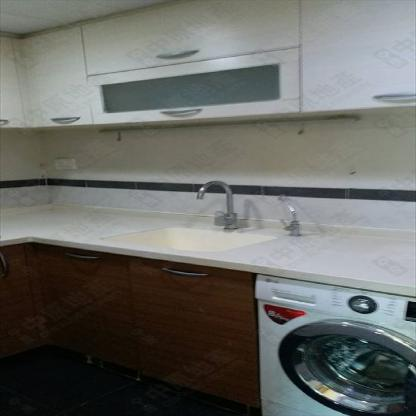Cupboard: (0, 0, 415, 126), (0, 241, 257, 413)
Faucet: (191, 179, 238, 229)
Sink: (100, 226, 275, 252)
Washing Machine: (260, 273, 414, 415)
